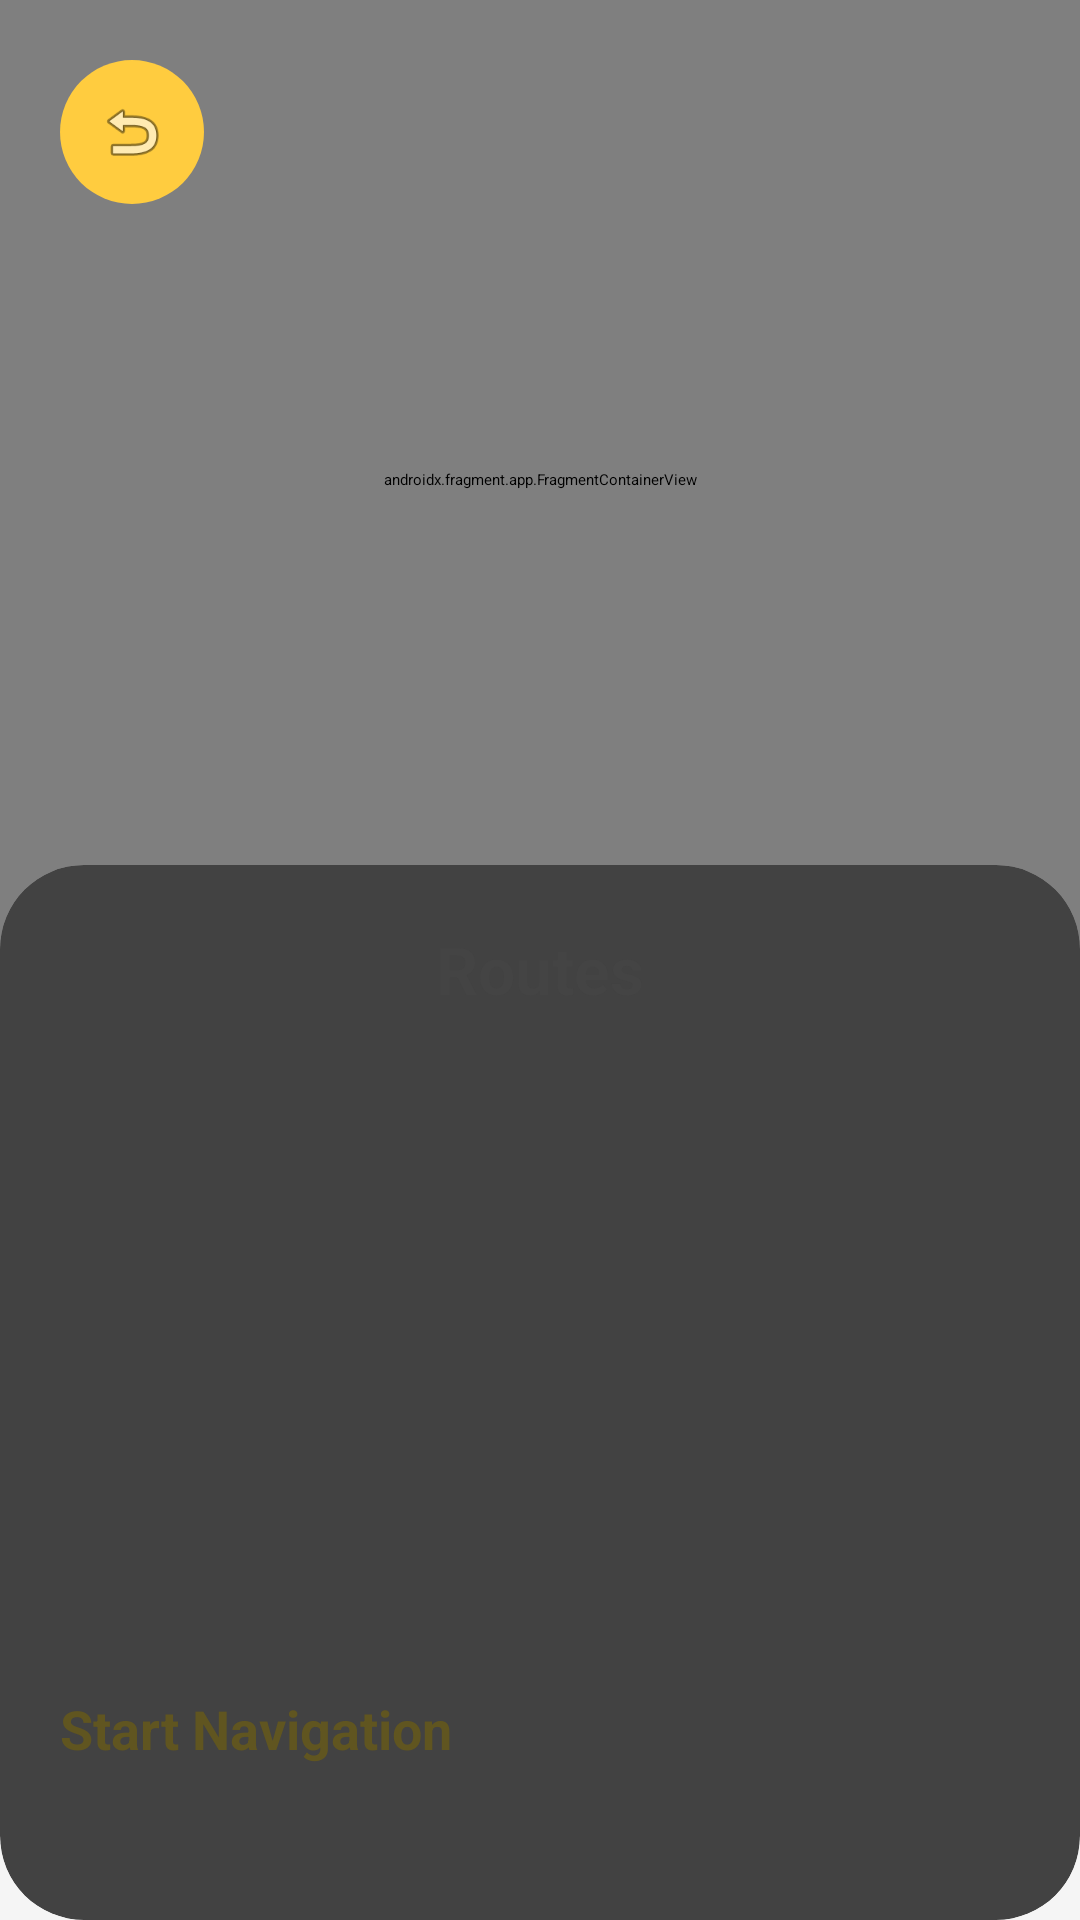

Named icons in this screenshot (1080px x 1920px) and their bounding boxes, [x1,y1,x2,y2]:
Back: [60,60,204,204]
